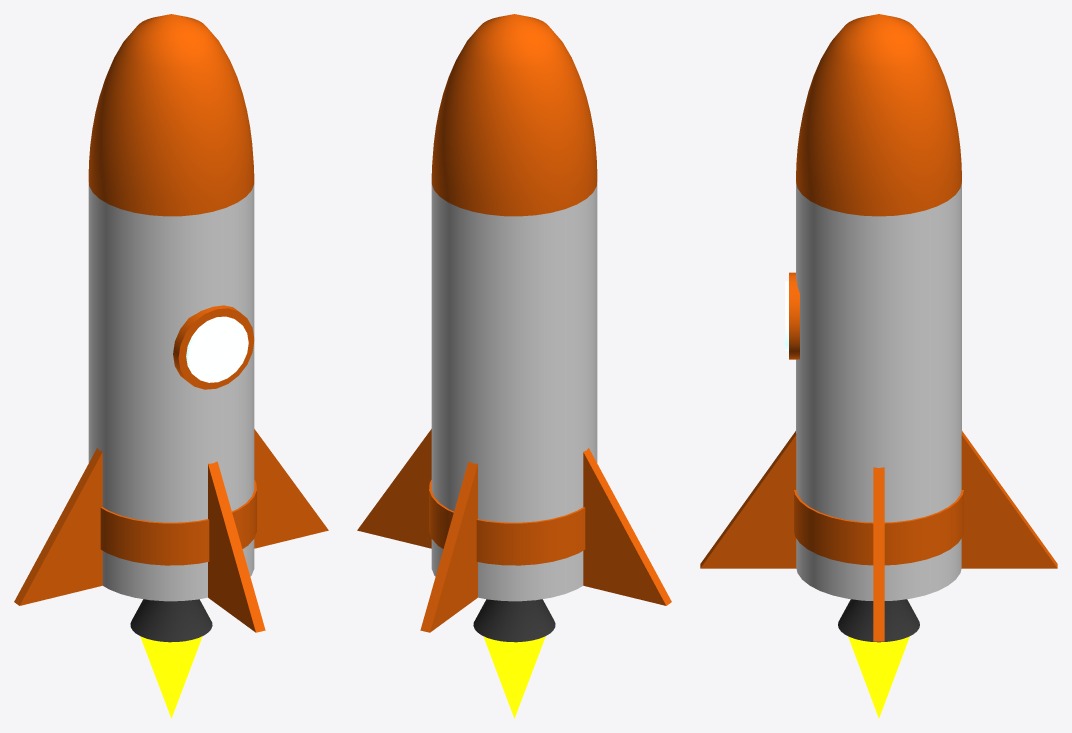
File: Rocket_04_ClassicWhite.fbx
3 renders of one model, left to right at view 1: azimuth 30°, elevation 25°; view 2: azimuth 150°, elevation 25°; view 3: azimuth 270°, elevation 25°, orthographic.
Parts seen in each view (by area): view 1: R04_Body, R04_Nose, R04_Fin_2, R04_Band_1, R04_Fin_3, R04_Fin_4, R04_Window_1, R04_Nozzle_1, R04_Flame_1, R04_WindowFrame_1; view 2: R04_Body, R04_Nose, R04_Fin_2, R04_Band_1, R04_Fin_1, R04_Fin_4, R04_Nozzle_1, R04_Flame_1; view 3: R04_Body, R04_Nose, R04_Band_1, R04_Fin_1, R04_Fin_3, R04_Nozzle_1, R04_Flame_1, R04_Fin_4, R04_WindowFrame_1.
Part boxes in pixels (left/top/right/bottom): R04_Body: left=88, top=182, right=254, bottom=601; R04_Nose: left=88, top=14, right=254, bottom=216; R04_Fin_2: left=14, top=448, right=102, bottom=605; R04_Band_1: left=100, top=480, right=256, bottom=565; R04_Fin_3: left=208, top=461, right=265, bottom=632; R04_Fin_4: left=254, top=429, right=328, bottom=548; R04_Window_1: left=186, top=316, right=248, bottom=382; R04_Nozzle_1: left=130, top=599, right=212, bottom=642; R04_Flame_1: left=140, top=636, right=202, bottom=718; R04_WindowFrame_1: left=173, top=305, right=254, bottom=389; R04_Body: left=431, top=182, right=597, bottom=601; R04_Nose: left=431, top=14, right=597, bottom=216; R04_Fin_2: left=583, top=448, right=671, bottom=605; R04_Band_1: left=429, top=480, right=585, bottom=565; R04_Fin_1: left=420, top=461, right=477, bottom=632; R04_Fin_4: left=357, top=429, right=431, bottom=548; R04_Nozzle_1: left=473, top=599, right=555, bottom=642; R04_Flame_1: left=483, top=636, right=545, bottom=718; R04_Body: left=796, top=182, right=961, bottom=600; R04_Nose: left=796, top=14, right=961, bottom=216; R04_Band_1: left=794, top=490, right=963, bottom=565; R04_Fin_1: left=961, top=431, right=1057, bottom=568; R04_Fin_3: left=700, top=431, right=796, bottom=568; R04_Nozzle_1: left=838, top=599, right=919, bottom=642; R04_Flame_1: left=848, top=636, right=909, bottom=718; R04_Fin_4: left=873, top=467, right=884, bottom=641; R04_WindowFrame_1: left=789, top=272, right=799, bottom=359.
Size of the model in its own units: 3.87 by 8.43 by 3.87.
